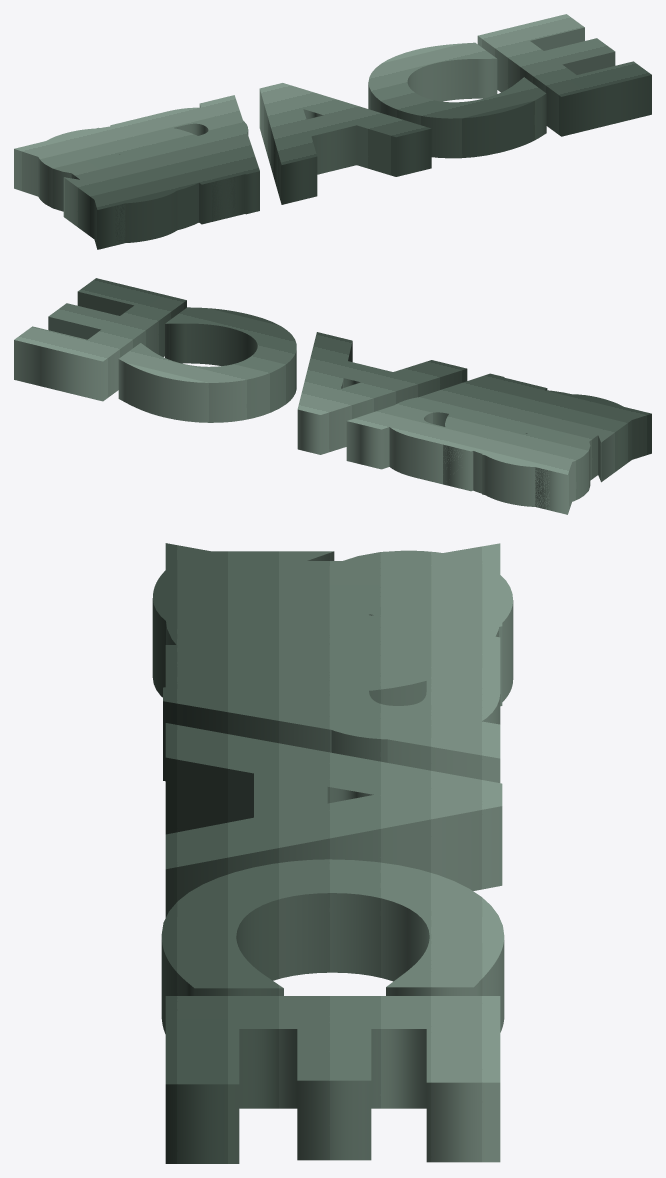
File: tutorial.fbx
3 renders of one model, top to bottom at view 1: azimuth 30°, elevation 25°; view 2: azimuth 150°, elevation 25°; view 3: azimuth 270°, elevation 25°, orthographic. The views are drawn at different scales.
Visible parts, largest first — view 1: Space, W, S, A, D; view 2: Space, W, S, A, D; view 3: Space, W, D, S, A.
Boxes of the visible parts, bbox=[...] form: Space: bbox=[42, 14, 651, 224]; W: bbox=[14, 95, 259, 214]; S: bbox=[37, 128, 184, 242]; A: bbox=[80, 127, 246, 249]; D: bbox=[48, 124, 219, 244]; Space: bbox=[14, 278, 630, 484]; W: bbox=[346, 373, 590, 514]; S: bbox=[474, 394, 635, 506]; A: bbox=[482, 377, 651, 494]; D: bbox=[445, 389, 632, 509]; Space: bbox=[161, 554, 504, 1163]; W: bbox=[163, 543, 500, 782]; D: bbox=[165, 561, 500, 705]; S: bbox=[152, 550, 513, 701]; A: bbox=[165, 543, 502, 706].
Bounding box in the file's own units: 291 × 20 × 82.01.
